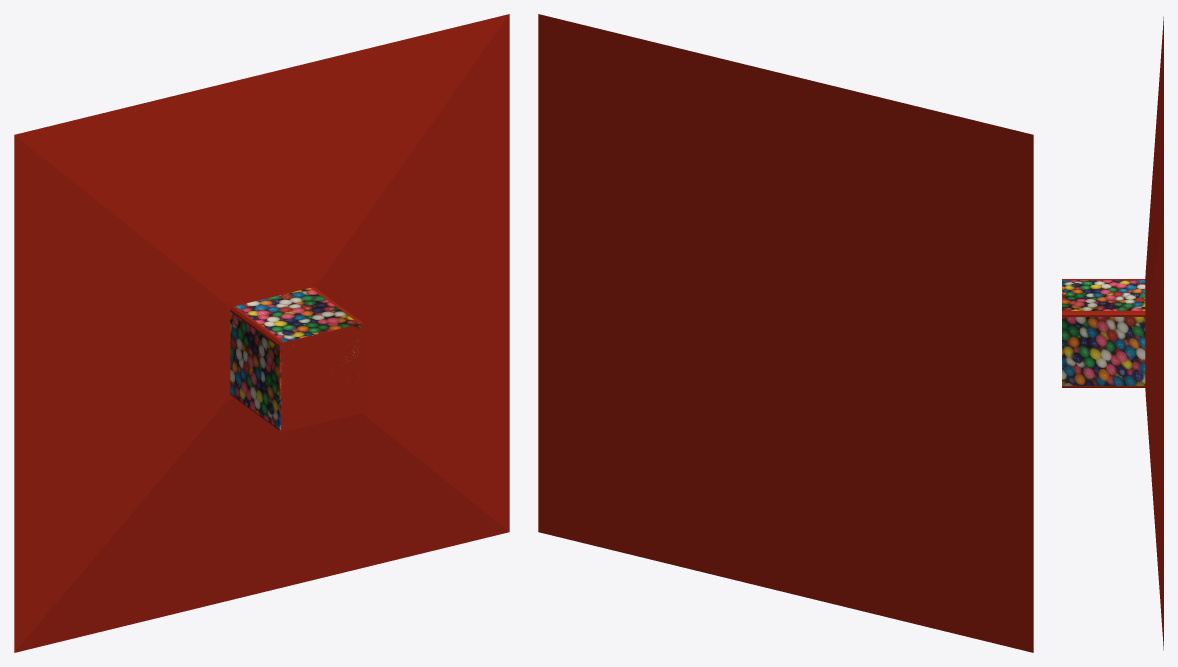
File: low-poly-gumball-machine-n64-psx-style-2d7dba.glb
The picture shows the model from 3 angles, left to right: view 1: azimuth 30°, elevation 25°; view 2: azimuth 150°, elevation 25°; view 3: azimuth 270°, elevation 25°; orthographic projection. The views are drawn at different scales.
Visible parts, largest first — view 1: PropMesh; view 2: PropMesh; view 3: PropMesh.
Boxes of the visible parts, box(x1,y1,x2,y2) form: PropMesh: box(14, 14, 509, 652); PropMesh: box(538, 14, 1033, 652); PropMesh: box(1062, 16, 1163, 650).
Size of the model in its own units: 2.2 by 2.2 by 0.4666.
Materials: 2 (2 with a texture image).
